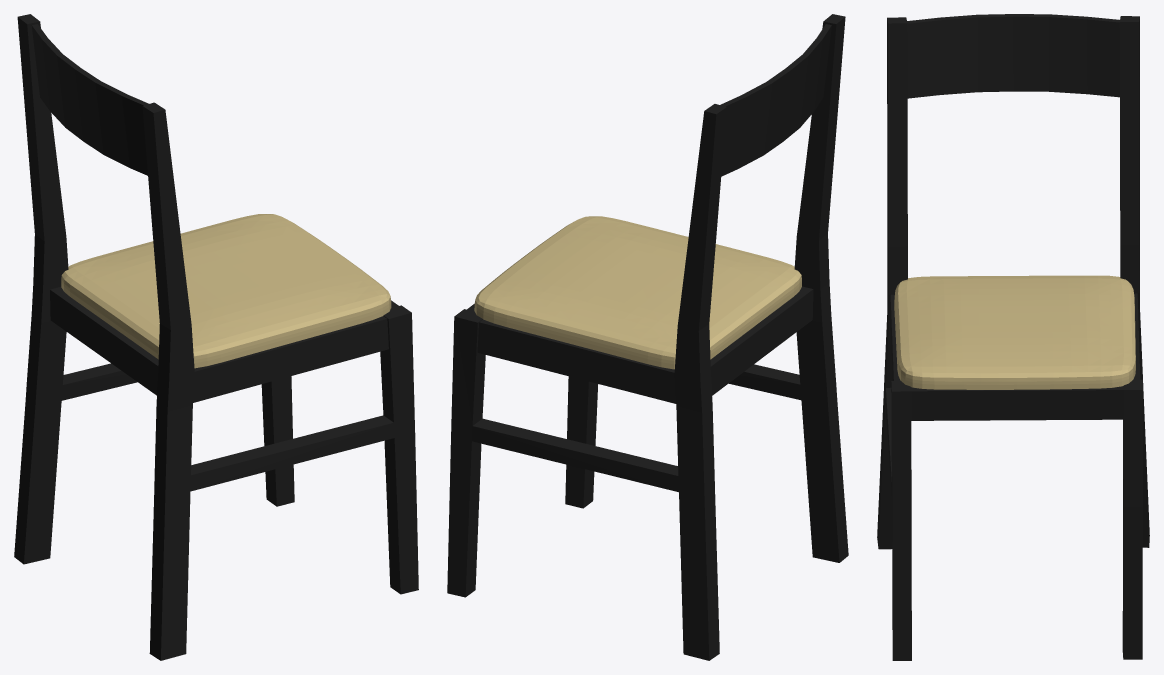
The model's file is chair.obj.
3 views of the same model, side by side, from view 1: azimuth 30°, elevation 25°; view 2: azimuth 150°, elevation 25°; view 3: azimuth 270°, elevation 25° (orthographic). The views are drawn at different scales.
Parts seen in each view (by area): view 1: chair.004_Cube.012, cus_chair.004_Cube.011; view 2: chair.004_Cube.012, cus_chair.004_Cube.011; view 3: chair.004_Cube.012, cus_chair.004_Cube.011.
Part boxes in pixels (x1,y1,x2,y2): chair.004_Cube.012: (14,14,418,660); cus_chair.004_Cube.011: (61,214,391,368); chair.004_Cube.012: (447,14,848,660); cus_chair.004_Cube.011: (474,216,801,369); chair.004_Cube.012: (877,14,1149,660); cus_chair.004_Cube.011: (894,275,1135,389).
Size of the model in its own units: 0.4745 by 0.8811 by 0.42.
